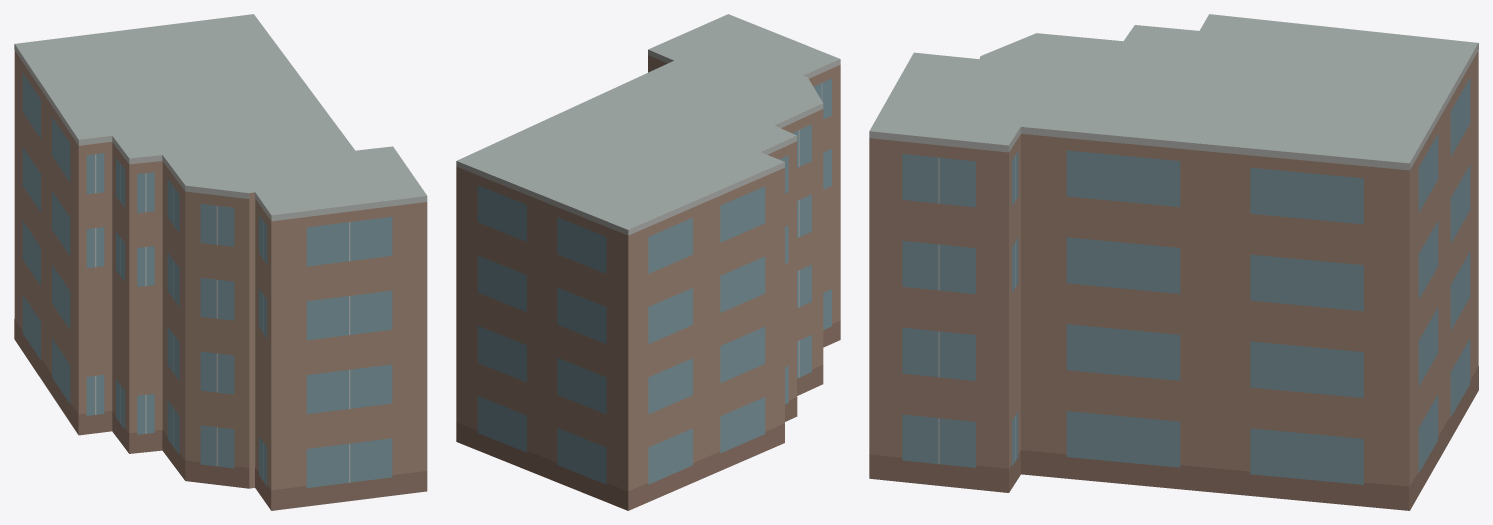
File: survey-upis-32651624.glb
The picture shows the model from 3 angles, left to right: view 1: azimuth 30°, elevation 25°; view 2: azimuth 150°, elevation 25°; view 3: azimuth 270°, elevation 25°; orthographic projection. The views are drawn at different scales.
Visible parts, largest first — view 1: survey-upis-32651624.tmp; view 2: survey-upis-32651624.tmp; view 3: survey-upis-32651624.tmp.
Boxes of the visible parts, box(x1,y1,x2,y2) form: survey-upis-32651624.tmp: box(14, 14, 427, 510); survey-upis-32651624.tmp: box(456, 14, 840, 510); survey-upis-32651624.tmp: box(869, 14, 1478, 510).
Size of the model in its own units: 11.26 by 12.2 by 19.4.
